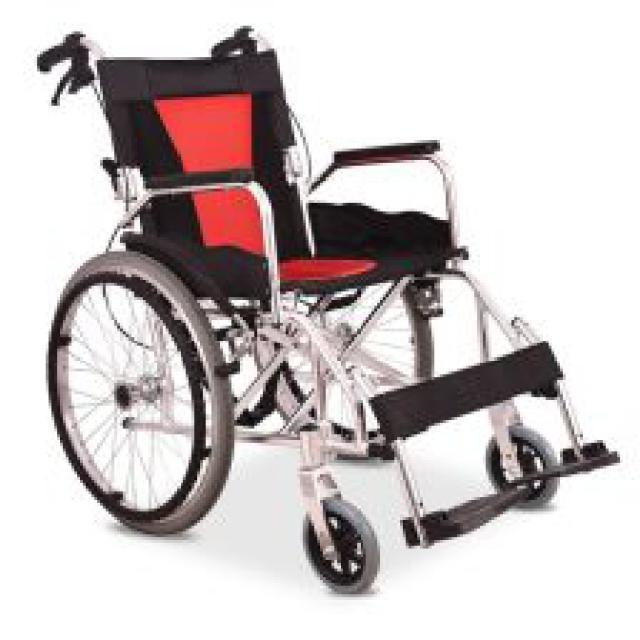wheelchairs: (35, 24, 622, 600)
